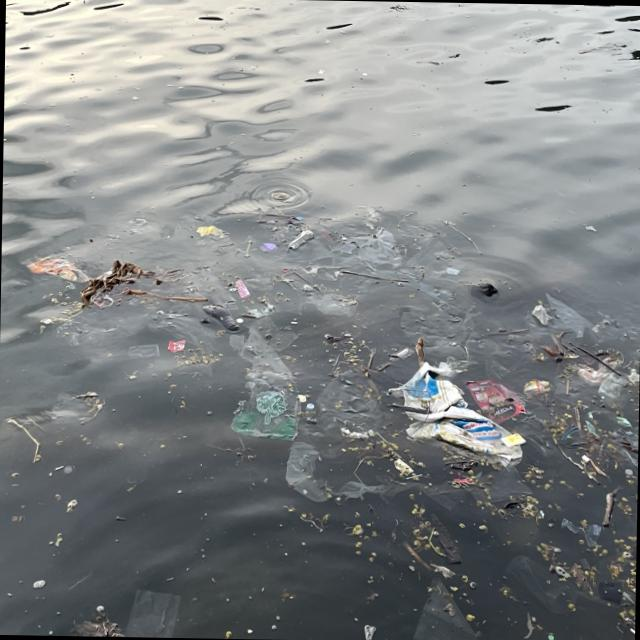plastic bottle: (382, 353, 524, 468), (284, 439, 382, 503), (61, 286, 158, 348), (230, 368, 300, 439), (147, 311, 216, 377), (412, 575, 479, 640), (504, 555, 577, 614), (524, 292, 602, 343), (230, 316, 296, 376), (402, 304, 476, 353), (317, 369, 378, 422), (377, 474, 467, 509), (330, 226, 402, 269), (121, 588, 182, 638), (462, 466, 532, 506), (464, 380, 524, 426), (401, 241, 466, 282), (185, 266, 238, 309), (429, 512, 464, 564), (26, 254, 89, 280), (296, 288, 356, 315), (50, 392, 93, 426), (559, 518, 602, 548), (578, 355, 616, 384), (585, 410, 631, 430), (599, 371, 631, 396), (287, 223, 315, 251), (302, 262, 339, 282), (520, 379, 552, 395), (195, 224, 225, 237), (501, 432, 526, 447), (167, 338, 186, 352), (628, 366, 639, 388), (260, 242, 278, 252)
unknow: (201, 301, 239, 332), (72, 618, 132, 636), (598, 580, 624, 604), (234, 278, 250, 298)
